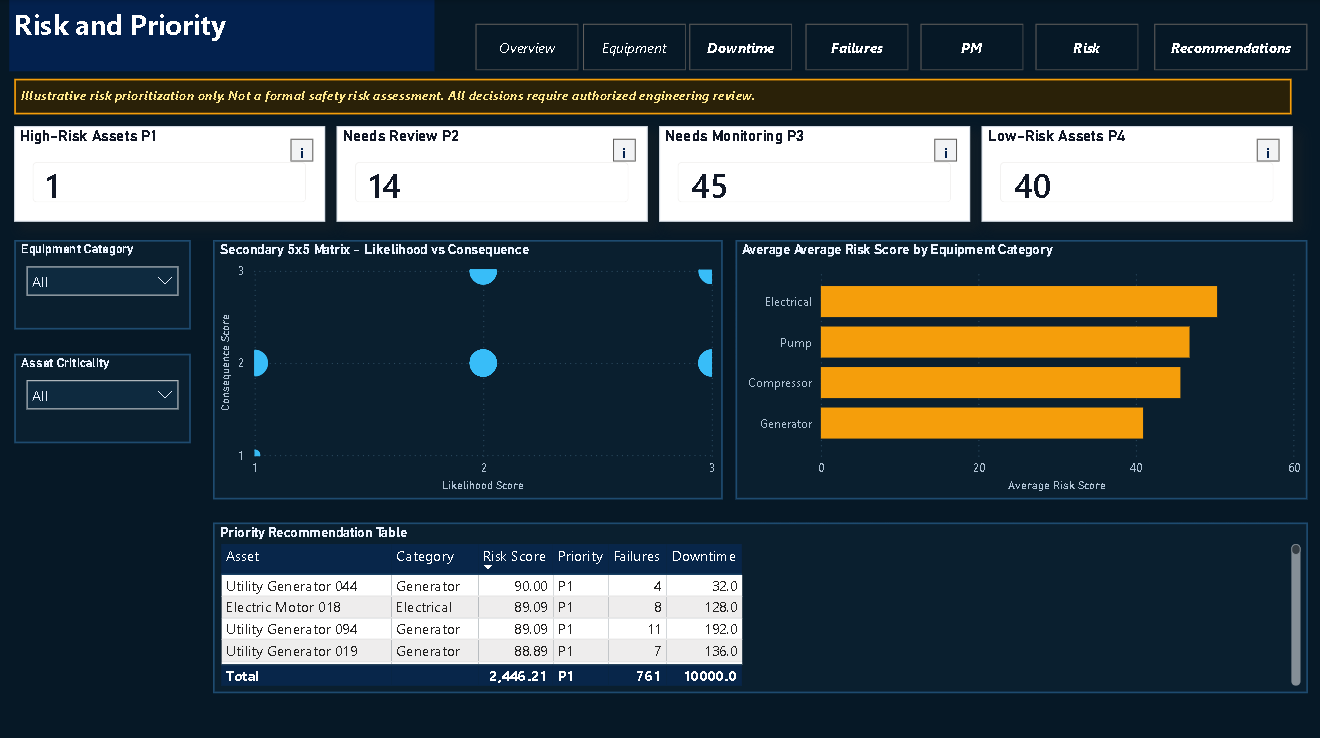

This screenshot's page, from the dashboard's own definition file:
{"tool":"powerbi","page":{"name":"Risk and Priority","canvas":[1280,720],"ordinal":5},"visuals":[{"type":"textbox","box":[10.7,0,410,68.8],"z":0},{"type":"actionButton","title":"Overview","box":[460.5,23.3,99.6,45.1],"z":100},{"type":"actionButton","title":"Equipment","box":[564.7,23.3,99.6,45.1],"z":200},{"type":"actionButton","title":"Downtime","box":[667.4,23.3,99.6,45.1],"z":300},{"type":"actionButton","title":"Failures","box":[779.4,23.3,99.6,45.1],"z":400},{"type":"actionButton","title":"PM","box":[889.8,23.3,99.6,45.1],"z":500},{"type":"actionButton","title":"Risk","box":[1001.9,23.3,99.6,45.1],"z":600},{"type":"actionButton","title":"Recommendations","box":[1115.4,23.3,147.8,45.1],"z":700},{"type":"textbox","box":[16,76,1233,34],"z":900},{"type":"cardVisual","title":"High-Risk Assets P1","fields":{"Data":["High-Risk Assets"]},"box":[16,122,300,92],"z":1000},{"type":"cardVisual","title":"Needs Review P2","fields":{"Data":["P2 Assets"]},"box":[327,122,300,92],"z":1100},{"type":"cardVisual","title":"Needs Monitoring P3","fields":{"Data":["P3 Assets"]},"box":[638,122,300,92],"z":1200},{"type":"cardVisual","title":"Low-Risk Assets P4","fields":{"Data":["P4 Assets"]},"box":[949,122,300,92],"z":1300},{"type":"slicer","title":"Equipment Category","fields":{"Values":["dim_Asset.EquipmentCategory"]},"box":[16,232,170,86],"z":2000},{"type":"slicer","title":"Asset Criticality","fields":{"Values":["dim_Asset.CriticalityRating"]},"box":[16,342,170,86],"z":2100},{"type":"scatterChart","title":"Secondary 5x5 Matrix - Likelihood vs Consequence","fields":{"Category":["dim_Asset.AssetName"],"X":["Likelihood"],"Y":["Consequence"],"Size":["Risk Score"]},"box":[207,232,492,250],"z":3000},{"type":"clusteredBarChart","title":"Average Average Risk Score by Equipment Category","fields":{"Category":["dim_Asset.EquipmentCategory"],"Y":["Average Risk Score"]},"box":[712,232,552,250],"z":3100},{"type":"tableEx","title":"Priority Recommendation Table","fields":{"Values":["dim_Asset.AssetName","dim_Asset.EquipmentCategory","Risk Score","Priority","Failures","Downtime"]},"box":[207,504,1057,165],"z":3200},{"type":"actionButton","title":"KPI info","box":[282,134,22,22],"z":3201},{"type":"actionButton","title":"KPI info","box":[593,134,22,22],"z":3202},{"type":"actionButton","title":"KPI info","box":[904,134,22,22],"z":3203},{"type":"actionButton","title":"KPI info","box":[1215,134,22,22],"z":3204}]}

Visuals, with their boxes in screenshot pixels (x1, y1, x2, y2), scaled from the page's 1280x720 canvas onto the 1320x738 screenshot:
textbox: (11,0,434,71)
"Overview" actionButton: (475,24,578,70)
"Equipment" actionButton: (582,24,685,70)
"Downtime" actionButton: (688,24,791,70)
"Failures" actionButton: (804,24,906,70)
"PM" actionButton: (918,24,1020,70)
"Risk" actionButton: (1033,24,1136,70)
"Recommendations" actionButton: (1150,24,1303,70)
textbox: (16,78,1288,113)
"High-Risk Assets P1" cardVisual: (16,125,326,219)
"Needs Review P2" cardVisual: (337,125,647,219)
"Needs Monitoring P3" cardVisual: (658,125,967,219)
"Low-Risk Assets P4" cardVisual: (979,125,1288,219)
"Equipment Category" slicer: (16,238,192,326)
"Asset Criticality" slicer: (16,351,192,439)
"Secondary 5x5 Matrix - Likelihood vs Consequence" scatterChart: (213,238,721,494)
"Average Average Risk Score by Equipment Category" clusteredBarChart: (734,238,1304,494)
"Priority Recommendation Table" tableEx: (213,517,1304,686)
"KPI info" actionButton: (291,137,314,160)
"KPI info" actionButton: (612,137,634,160)
"KPI info" actionButton: (932,137,955,160)
"KPI info" actionButton: (1253,137,1276,160)
